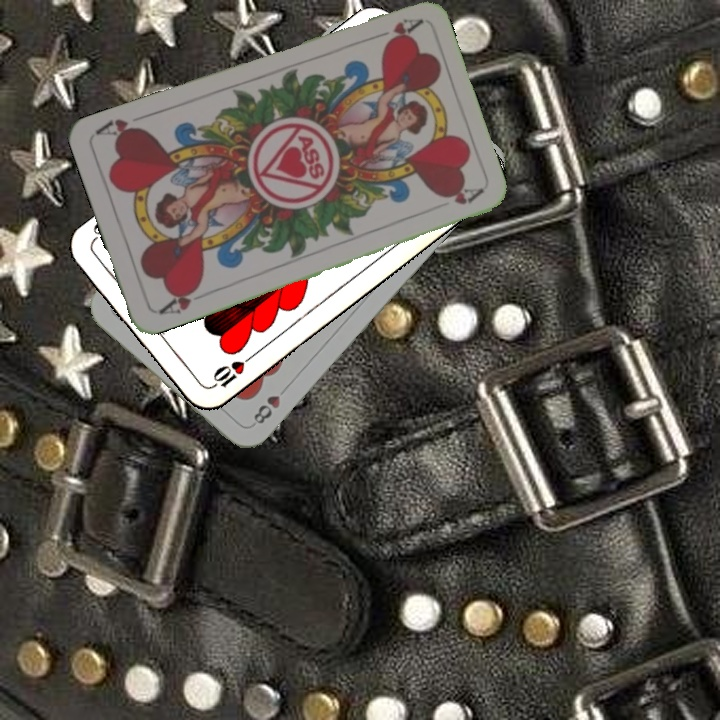H10: (205, 351, 256, 393)
H8: (249, 391, 283, 429)
HA: (155, 281, 211, 317), (366, 14, 423, 49)
